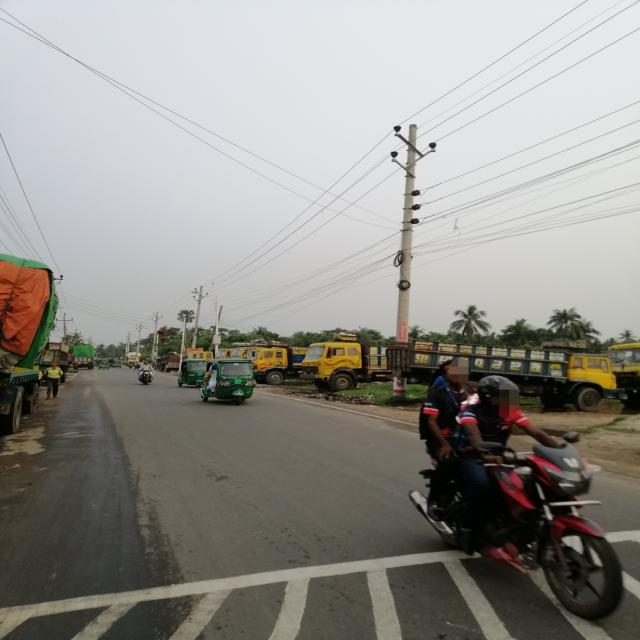Motorbike: (408, 431, 634, 627)
